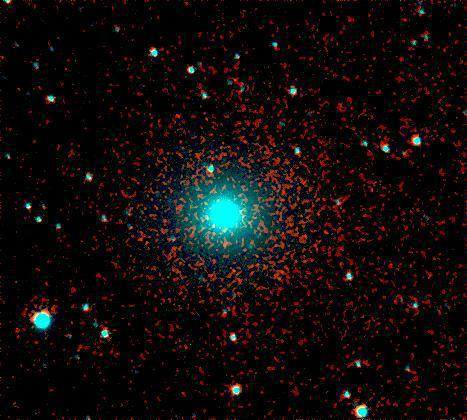star: (145, 149, 175, 179)
